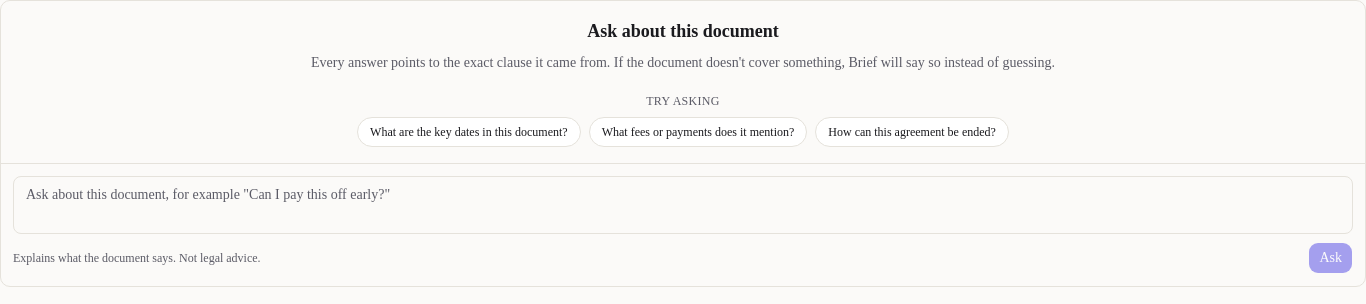
Test: ChatPanel › treats not finding an answer as a normal reply, with no citations shown
The width and height of the screenshot is (1366, 304).
Type "What is the maximum loan?" into the text box named "Your question".
click(683, 205); type("What is the maximum loan?")  # box [13,176,1353,234]
Then press Enter
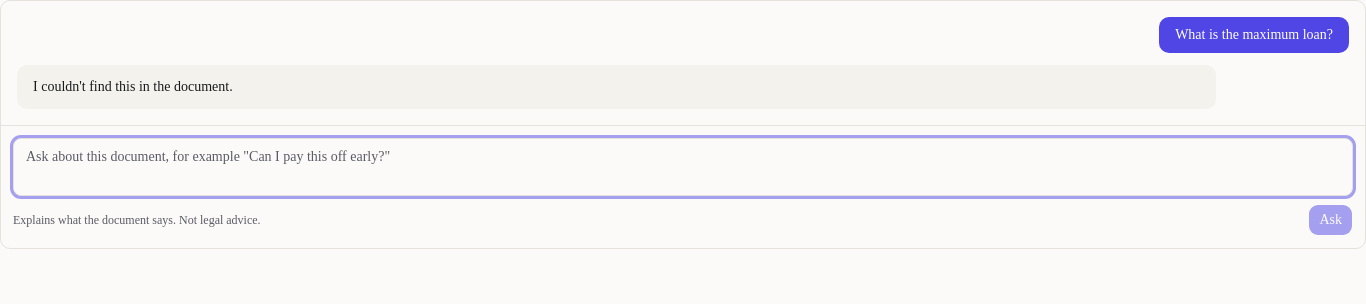
Now the text "I couldn't find this in the document." is shown, box [17,65,1216,109]
